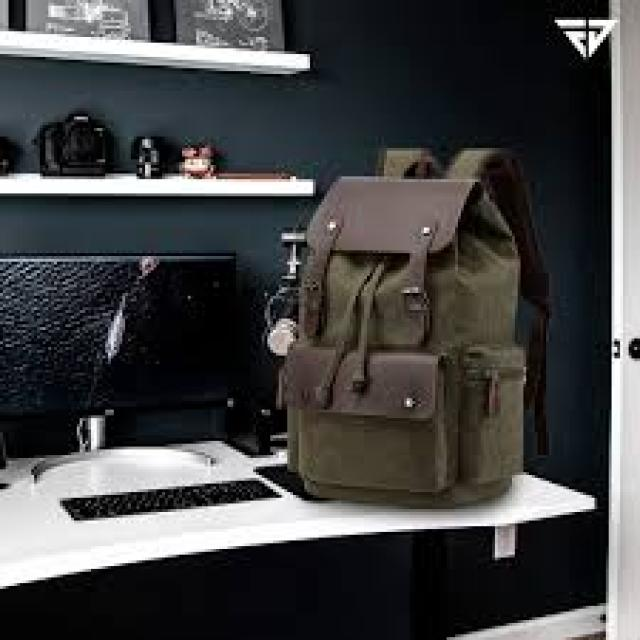backpack: (277, 172, 530, 507)
